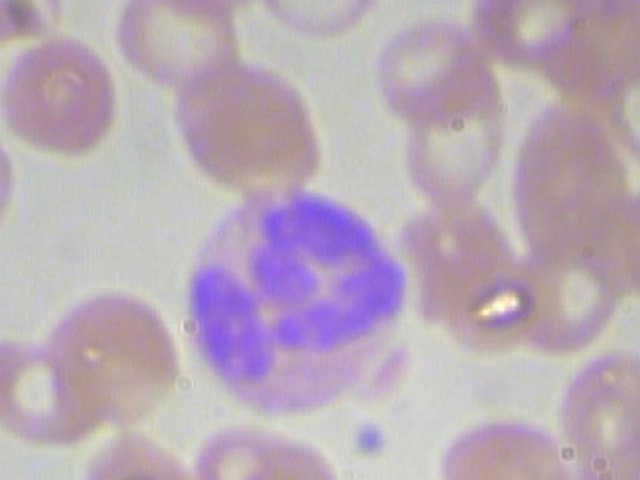Platelets: (349, 411, 393, 464)
RBC: (171, 55, 334, 198), (510, 100, 639, 273), (36, 284, 183, 433), (384, 69, 513, 214), (362, 4, 498, 127), (0, 33, 125, 157), (110, 0, 244, 99), (436, 399, 573, 480), (552, 342, 640, 464), (186, 422, 345, 480), (66, 431, 203, 480), (248, 0, 385, 36), (137, 0, 278, 21), (0, 121, 14, 253)
WBC: (155, 173, 416, 420)
